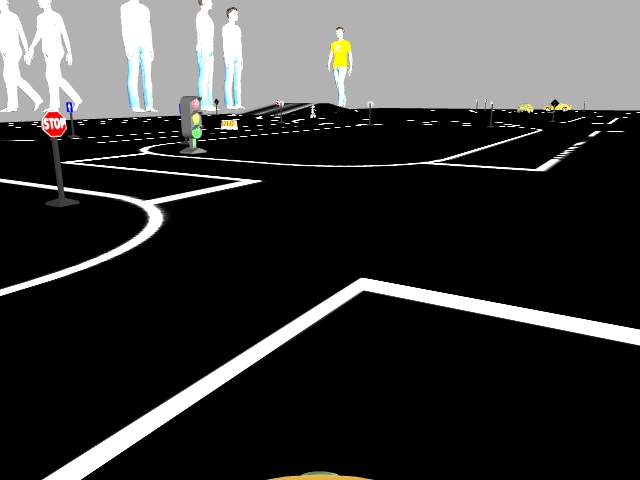ClosedRoadStand: (221, 120, 237, 131)
OneWay: (66, 101, 74, 112)
Stop: (41, 112, 65, 137)
TrafficLight: (178, 96, 202, 139)
